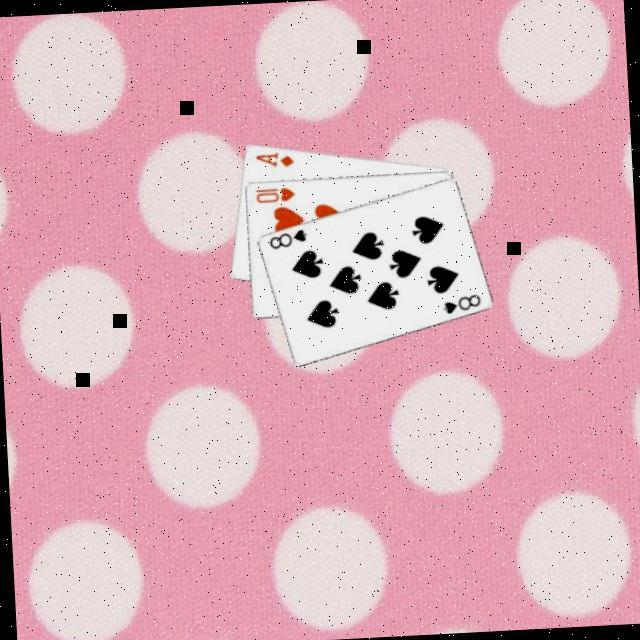10H: (251, 185, 296, 207)
8S: (263, 226, 308, 253), (438, 291, 483, 318)
AD: (251, 149, 295, 172)
